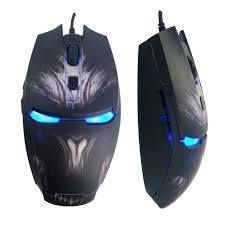mouse: (14, 24, 120, 209), (134, 24, 212, 215)
